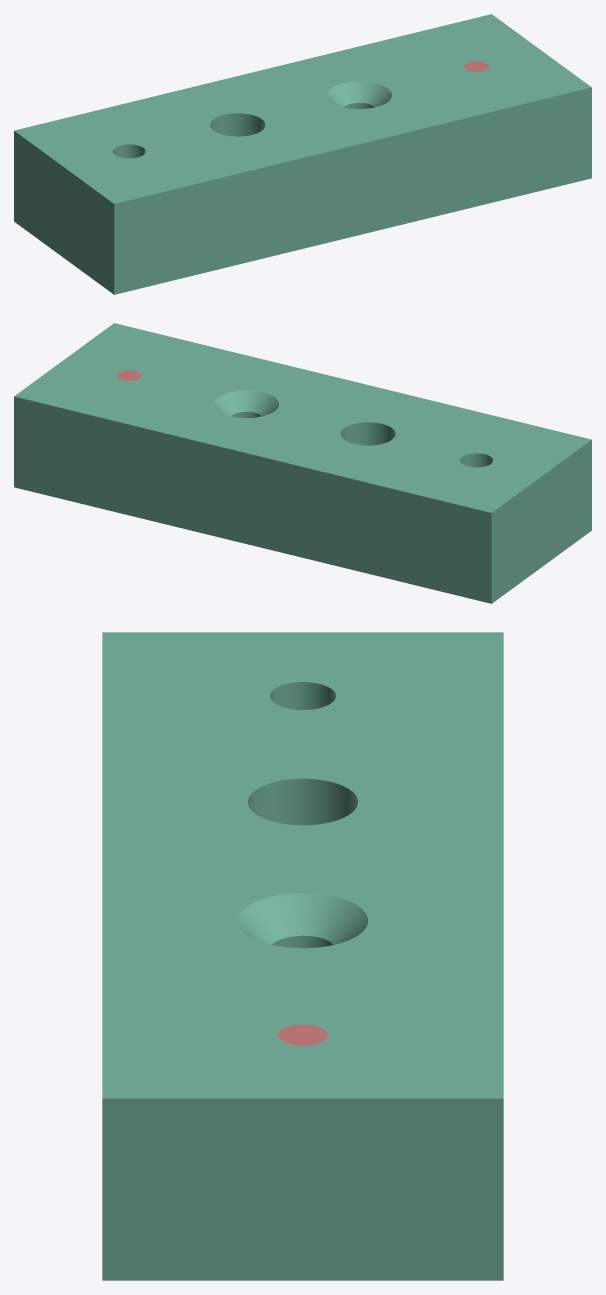
Rendered from step_06.glb.
3 views of the same model, one above another, from view 1: azimuth 30°, elevation 25°; view 2: azimuth 150°, elevation 25°; view 3: azimuth 270°, elevation 25° (orthographic). The views are drawn at different scales.
Visible parts, largest first — view 1: part__hole features block; view 2: part__hole features block; view 3: part__hole features block, removed__hole features block.
Part boxes in pixels (x1,y1,x2,y2): part__hole features block: (14, 14, 591, 294); part__hole features block: (14, 323, 591, 603); part__hole features block: (102, 632, 503, 1280); removed__hole features block: (278, 1024, 327, 1045).
Size of the model in its own units: 110 by 20 by 40.
